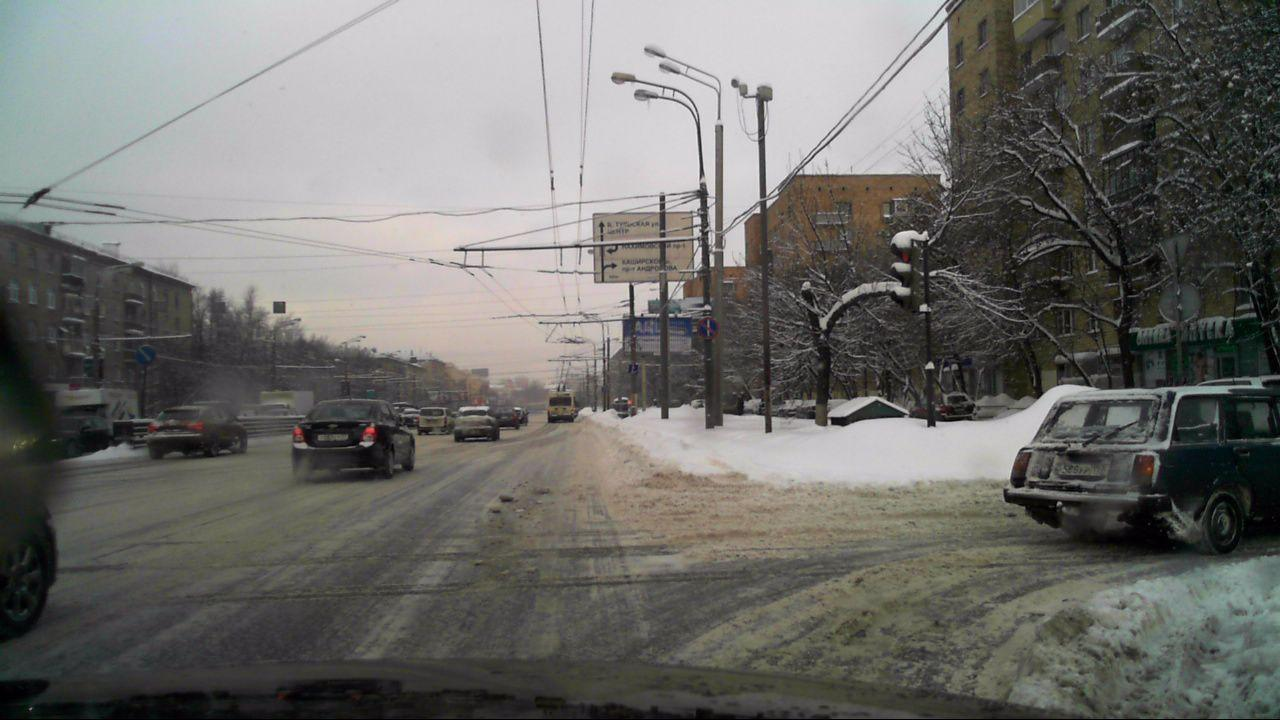3_29: (697, 316, 719, 340)
4_2_1: (138, 345, 155, 364)
6_6: (627, 363, 639, 378)
